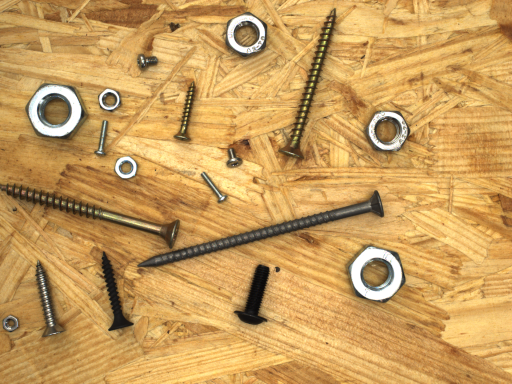screw_long: (123, 177, 400, 290)
